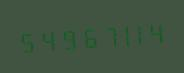five: (17, 25, 35, 56)
four: (36, 23, 54, 55), (150, 15, 168, 47)
nine: (55, 22, 73, 54)
one: (112, 18, 130, 50), (131, 17, 149, 48)
seven: (93, 19, 111, 51)
six: (74, 21, 92, 52)
